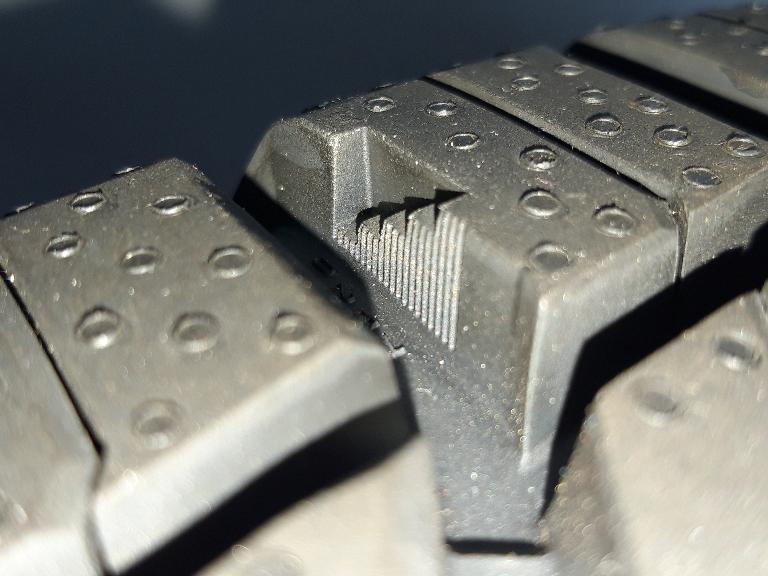temoin:100: (324, 117, 492, 358)
